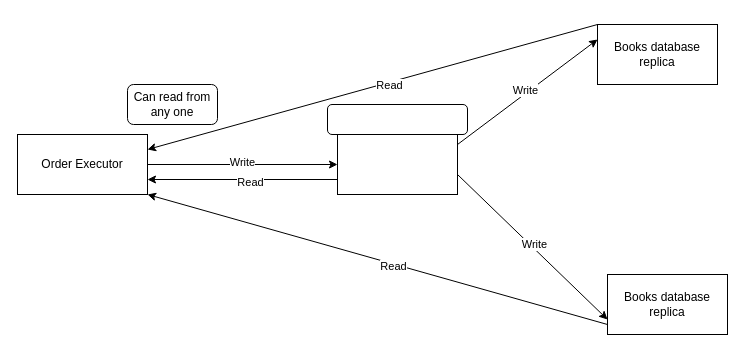
Image size: 745x352. Some labels were removed from this diagram. The centre of each missing label's shape, as x and y in pixels:
"Books database primary" goes at (x=397, y=164).
"Specified in docker compose" goes at (x=397, y=119).
